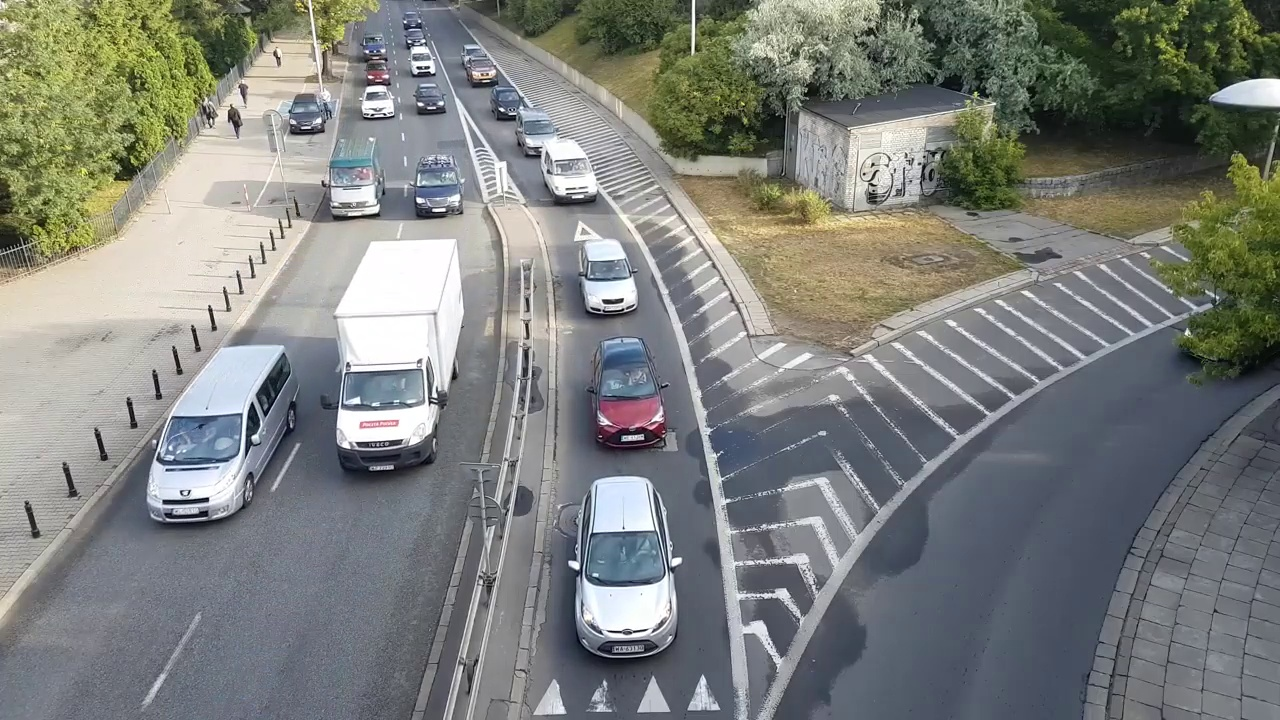car: (331, 238, 463, 481), (145, 344, 295, 530), (569, 476, 680, 667), (591, 338, 666, 444), (581, 242, 640, 317), (329, 134, 381, 217), (540, 141, 599, 210), (414, 154, 465, 215), (517, 107, 557, 159), (288, 93, 326, 131), (492, 84, 523, 121), (362, 86, 394, 121), (413, 83, 447, 114), (465, 55, 497, 87), (410, 43, 435, 77), (363, 31, 389, 63), (364, 59, 390, 87), (403, 28, 425, 52)
